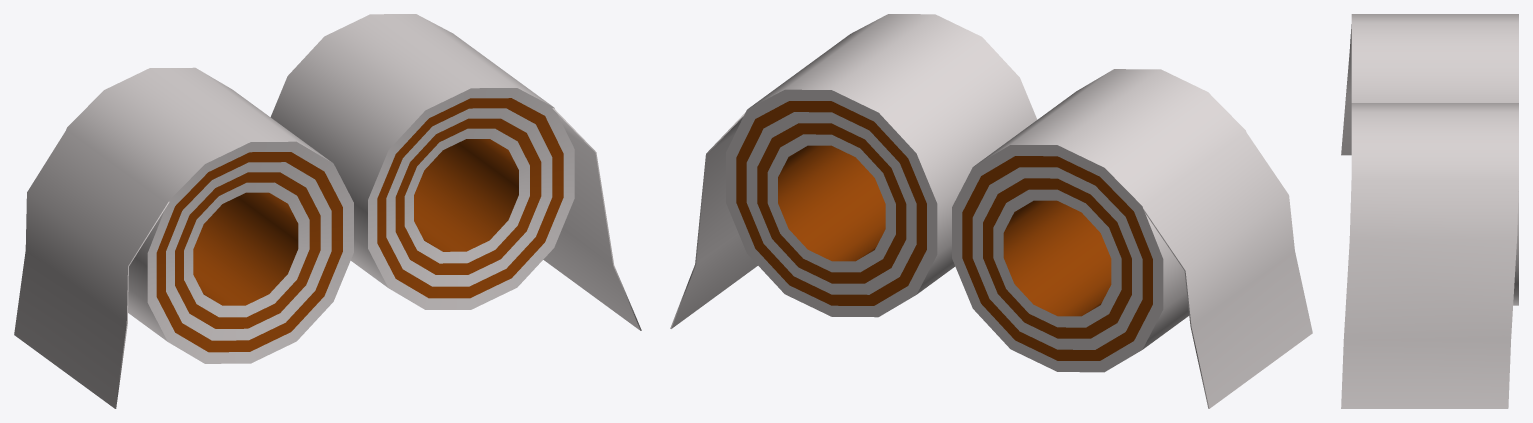
The model's file is Toilet_paper.fbx.
3 views of the same model, side by side, from view 1: azimuth 30°, elevation 25°; view 2: azimuth 150°, elevation 25°; view 3: azimuth 270°, elevation 25° (orthographic). The views are drawn at different scales.
Visible parts, largest first — view 1: Toilet_paper; view 2: Toilet_paper; view 3: Toilet_paper.
Part boxes in pixels (<box>): Toilet_paper: <box>14,14,641,408</box>; Toilet_paper: <box>670,14,1312,408</box>; Toilet_paper: <box>1341,14,1518,408</box>.
Bounding box in the file's own units: 0.6148 × 0.3102 × 0.217.
